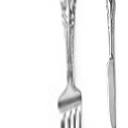Fork: (50, 1, 90, 128)
